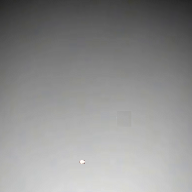Target: (78, 158, 86, 165)
